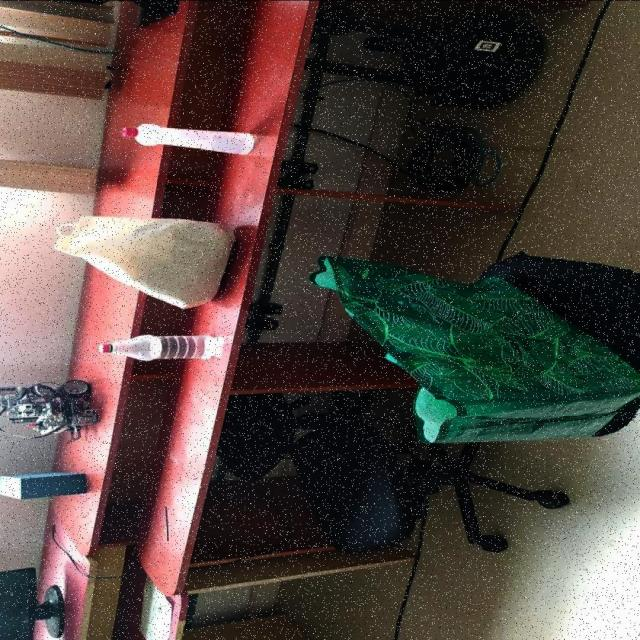Bag: (303, 253, 640, 444), (50, 213, 239, 309)
